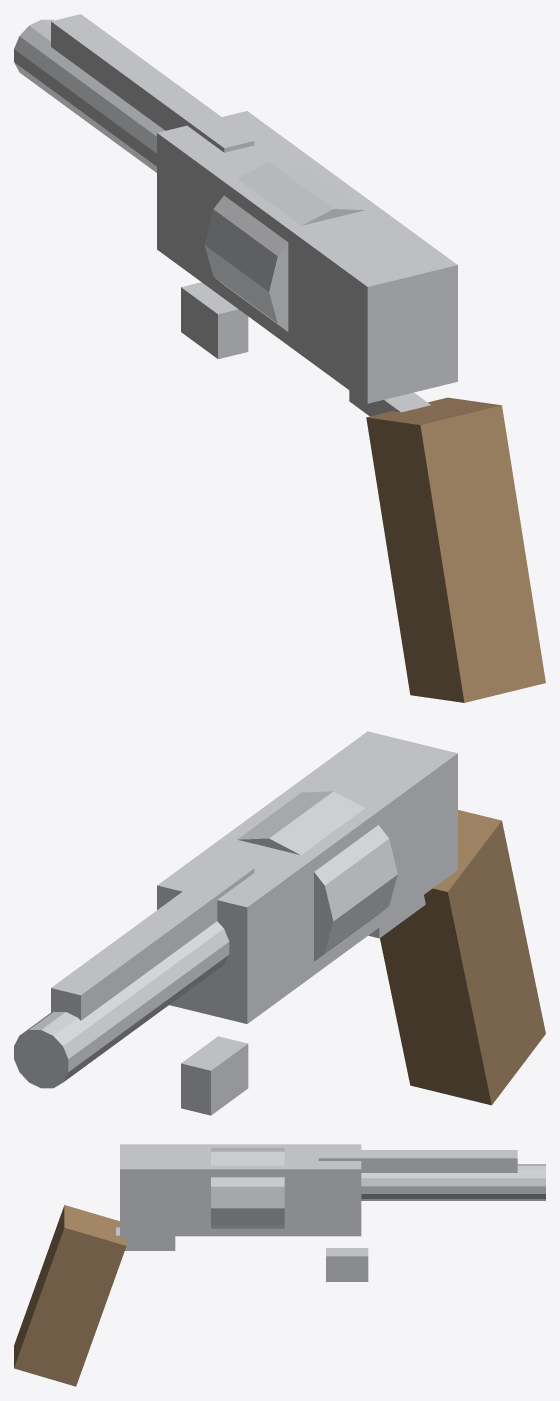
Rendered from ddskull.glb.
3 views of the same model, one above another, from view 1: azimuth 30°, elevation 25°; view 2: azimuth 150°, elevation 25°; view 3: azimuth 270°, elevation 25° (orthographic). The views are drawn at different scales.
Parts seen in each view (by area): view 1: ddskull; view 2: ddskull; view 3: ddskull.
Boxes of the visible parts, bbox=[...] form: ddskull: bbox=[14, 14, 545, 702]; ddskull: bbox=[14, 731, 545, 1115]; ddskull: bbox=[14, 1144, 545, 1386].
Bounding box in the file's own units: 0.06 × 0.1738 × 0.3746.
